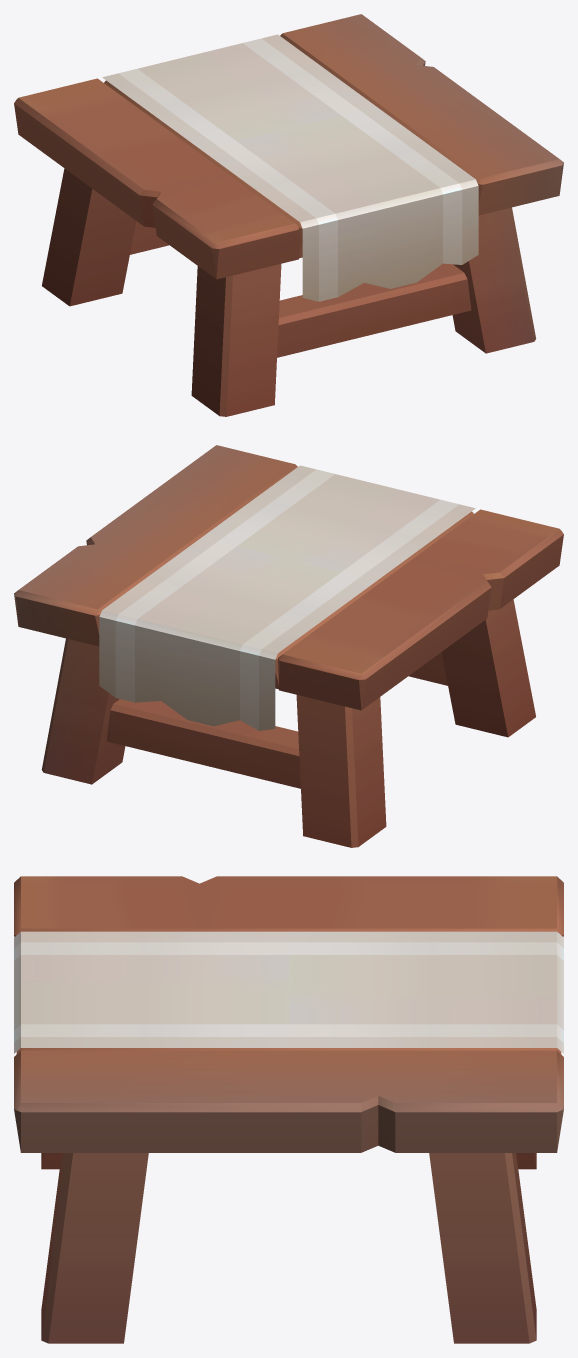
The model's file is kay-mesa-toalha.gltf.
3 renders of one model, top to bottom at view 1: azimuth 30°, elevation 25°; view 2: azimuth 150°, elevation 25°; view 3: azimuth 270°, elevation 25°, orthographic. The views are drawn at different scales.
Visible parts, largest first — view 1: table_medium_tablecloth; view 2: table_medium_tablecloth; view 3: table_medium_tablecloth.
Part boxes in pixels (box(x1,y1,x2,y2)): table_medium_tablecloth: box(14, 14, 563, 416); table_medium_tablecloth: box(14, 445, 563, 847); table_medium_tablecloth: box(14, 876, 563, 1343).
Bounding box in the file's own units: 1.3 × 0.6499 × 1.3.
Materials: 1 (1 with a texture image).
